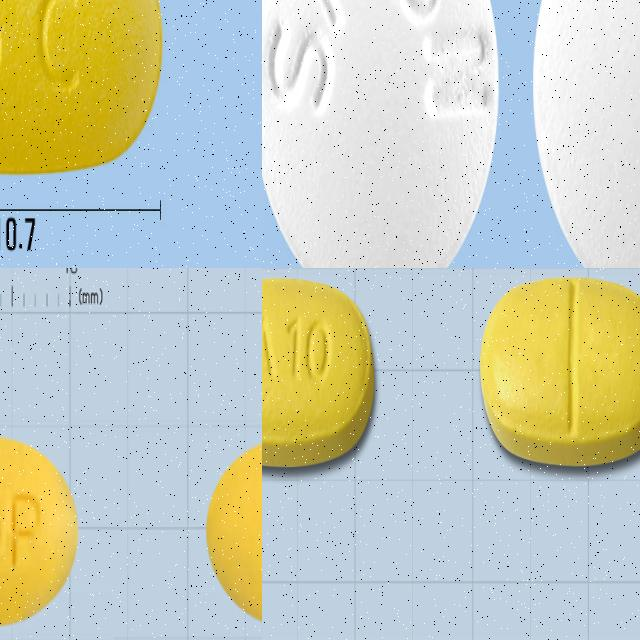Ciflonew: (262, 0, 503, 268), (529, 0, 640, 268)
Ciracle: (0, 433, 83, 629), (205, 430, 262, 636)
Clarid - 500mg: (477, 272, 640, 473), (262, 276, 378, 477)
Clarimicin: (0, 0, 163, 179)
